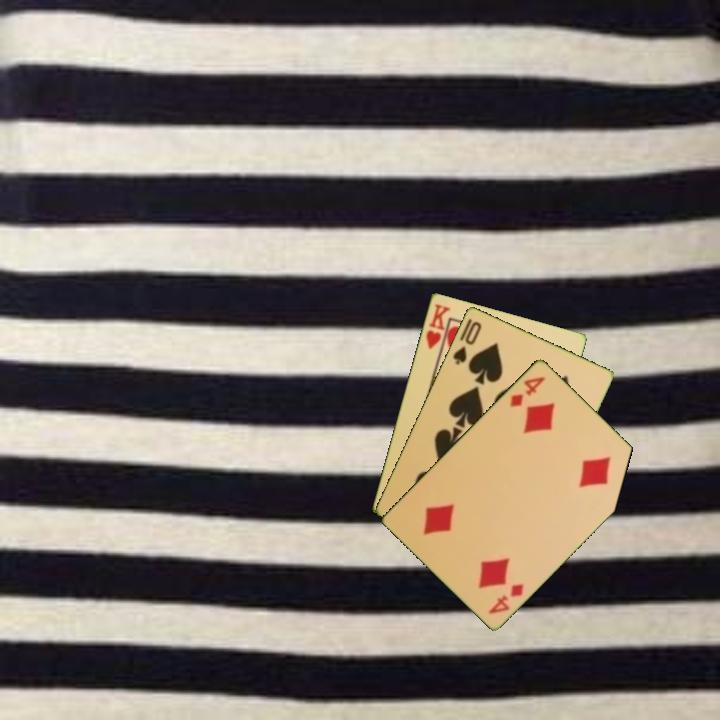10s: (449, 317, 484, 367)
4d: (506, 372, 548, 410), (485, 579, 526, 617)
Kh: (422, 300, 453, 357)
